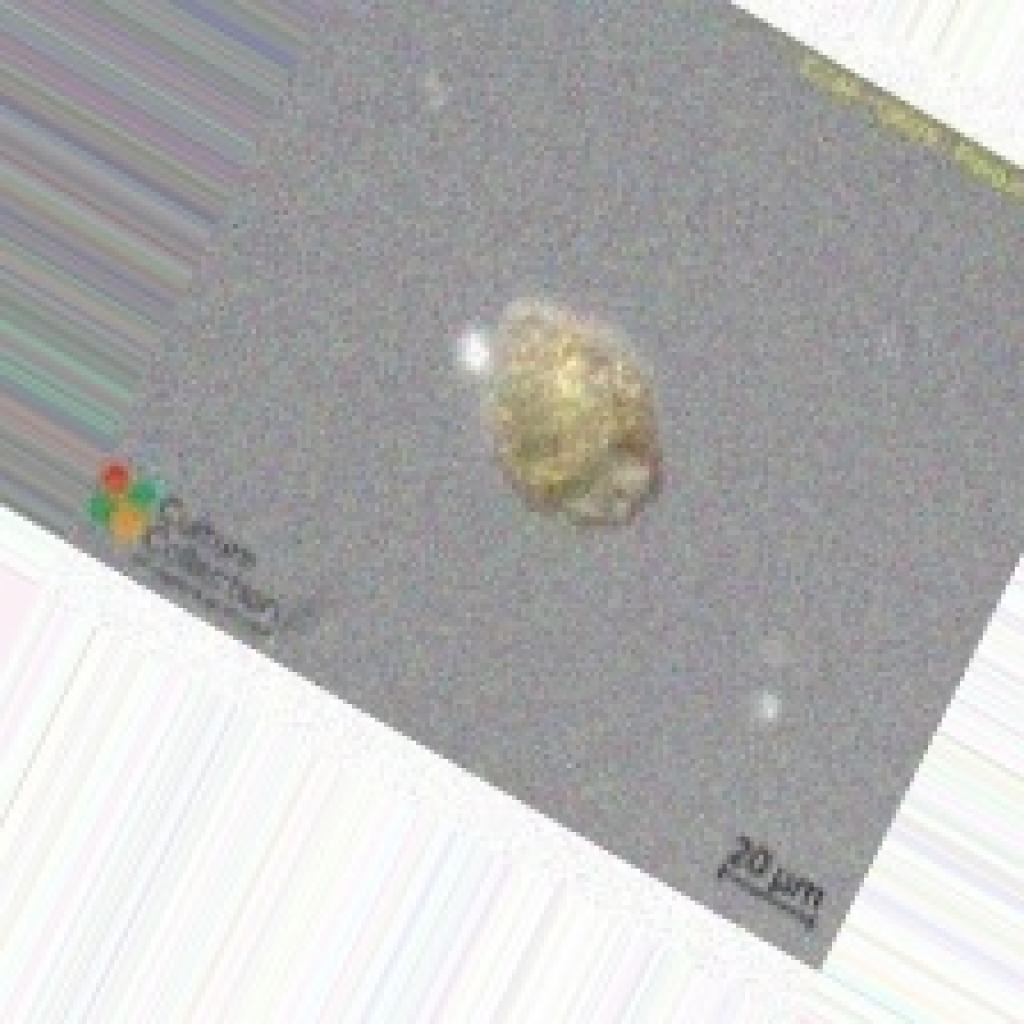Microalgae: (475, 288, 663, 526)
